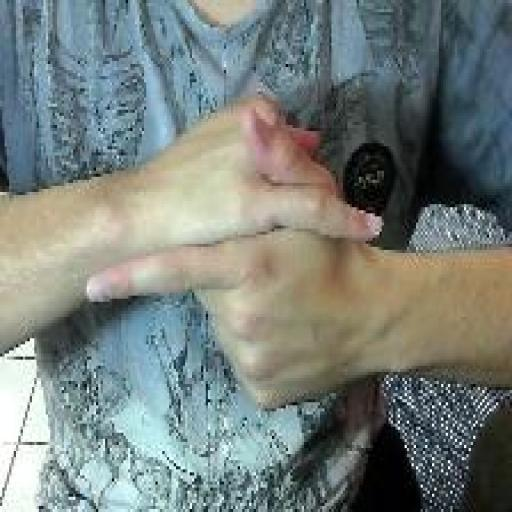U -hare-: (82, 82, 386, 414)
